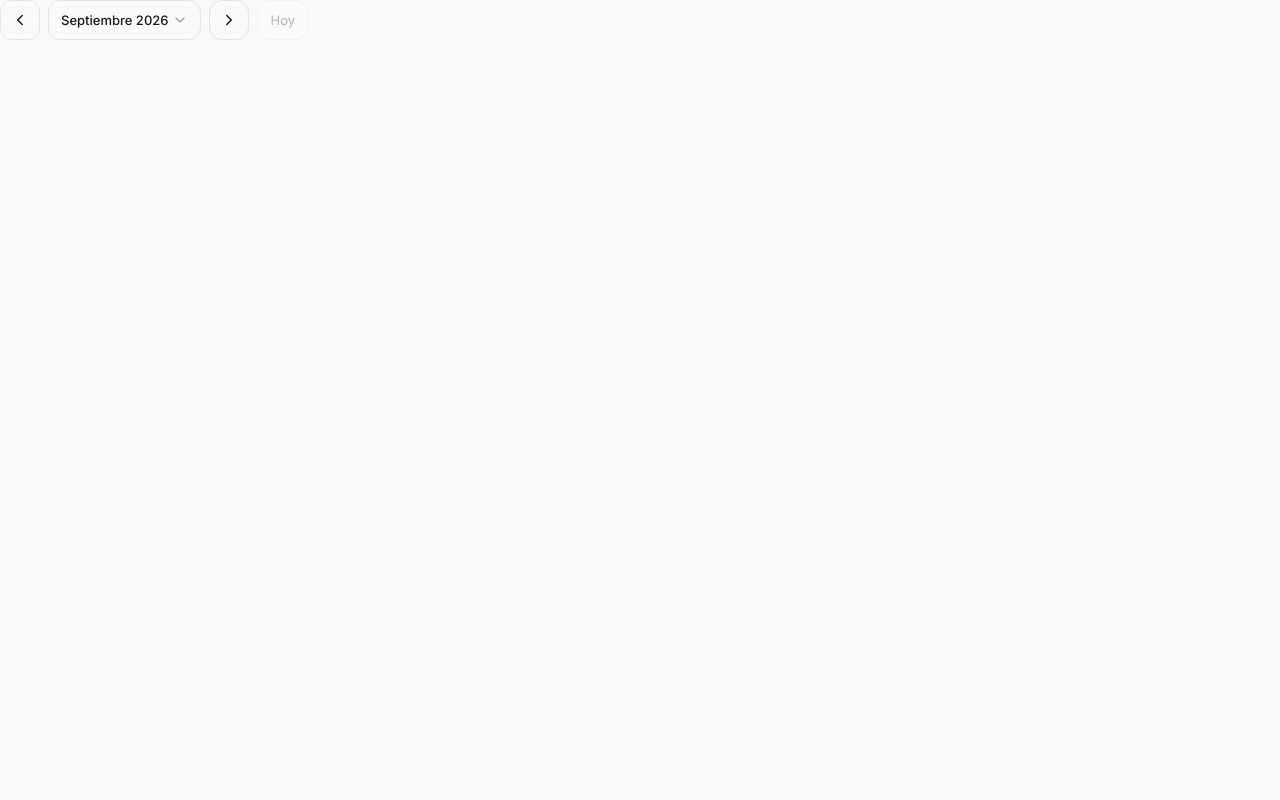
Test: MonthSelector — quick picker › opens a month grid from the label and jumps straight to the chosen month
Click the button with aria-label "elegir mes".
click(125, 20)  # box [48,0,202,40]
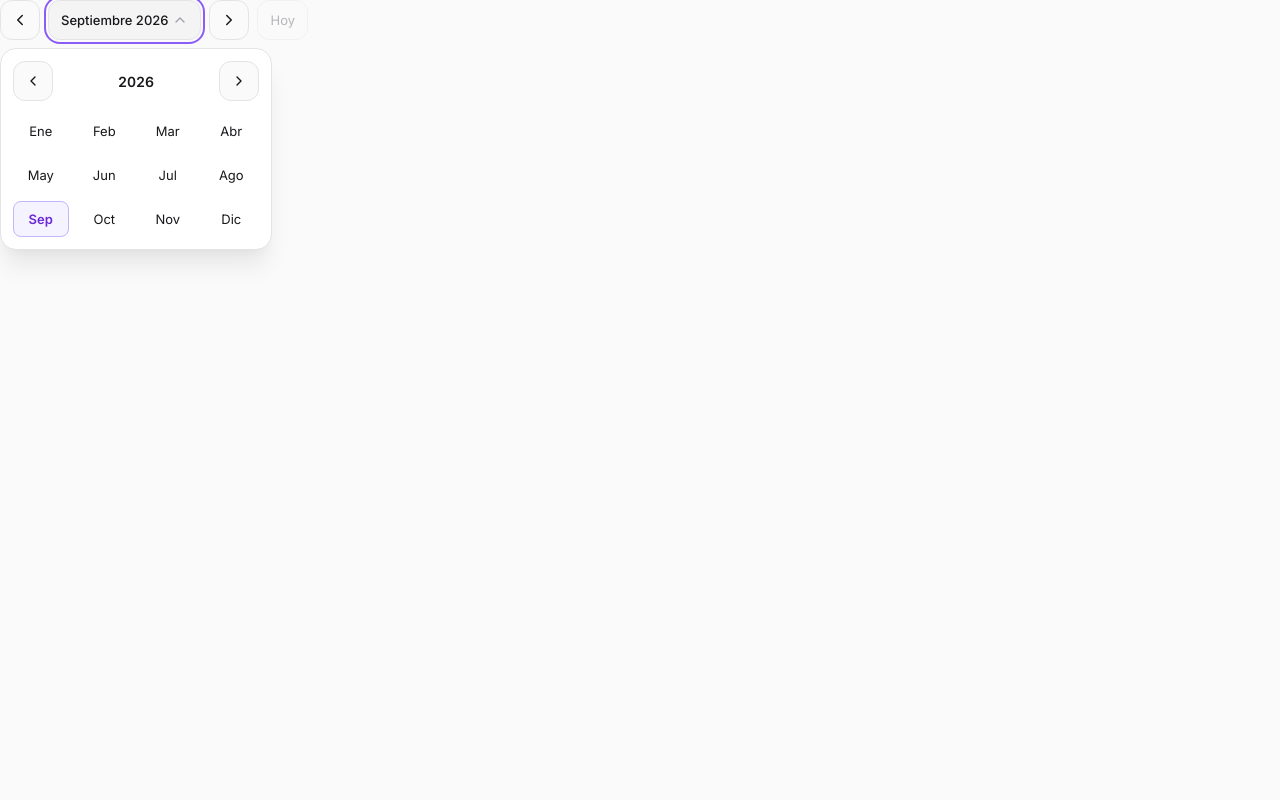
Expected: the dialog named "elegir mes" is shown, [0,48,272,250]
Expected: the text "2026" is shown, [118,70,154,92]
Click the button "Mar".
click(168, 131)  # box [140,113,196,149]
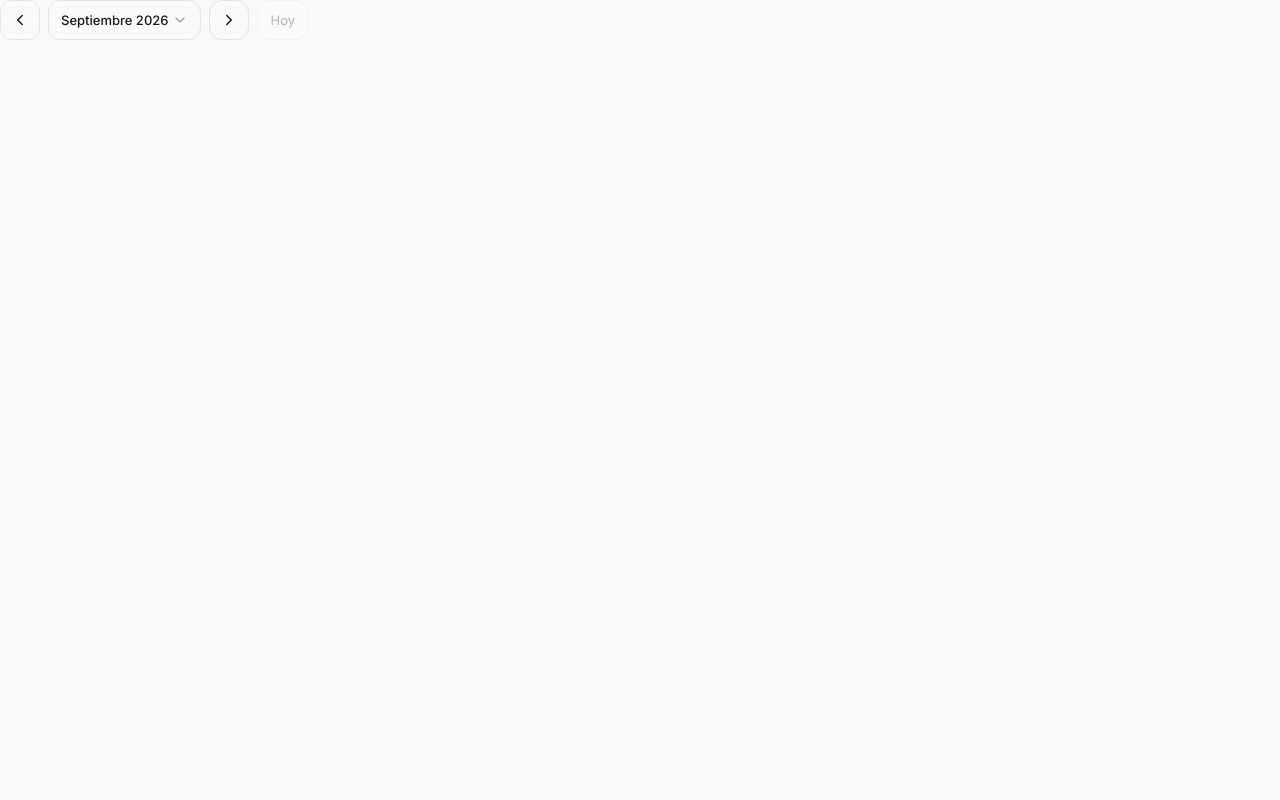
Expected: the dialog is gone
